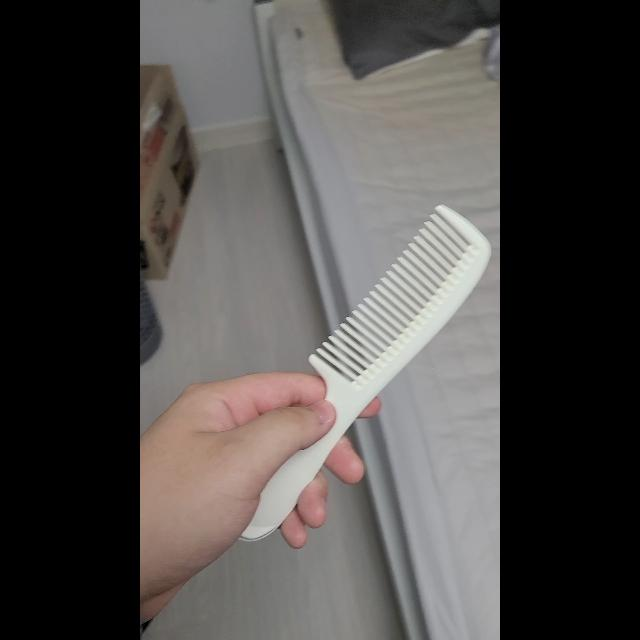COMB: (238, 205, 492, 541)
